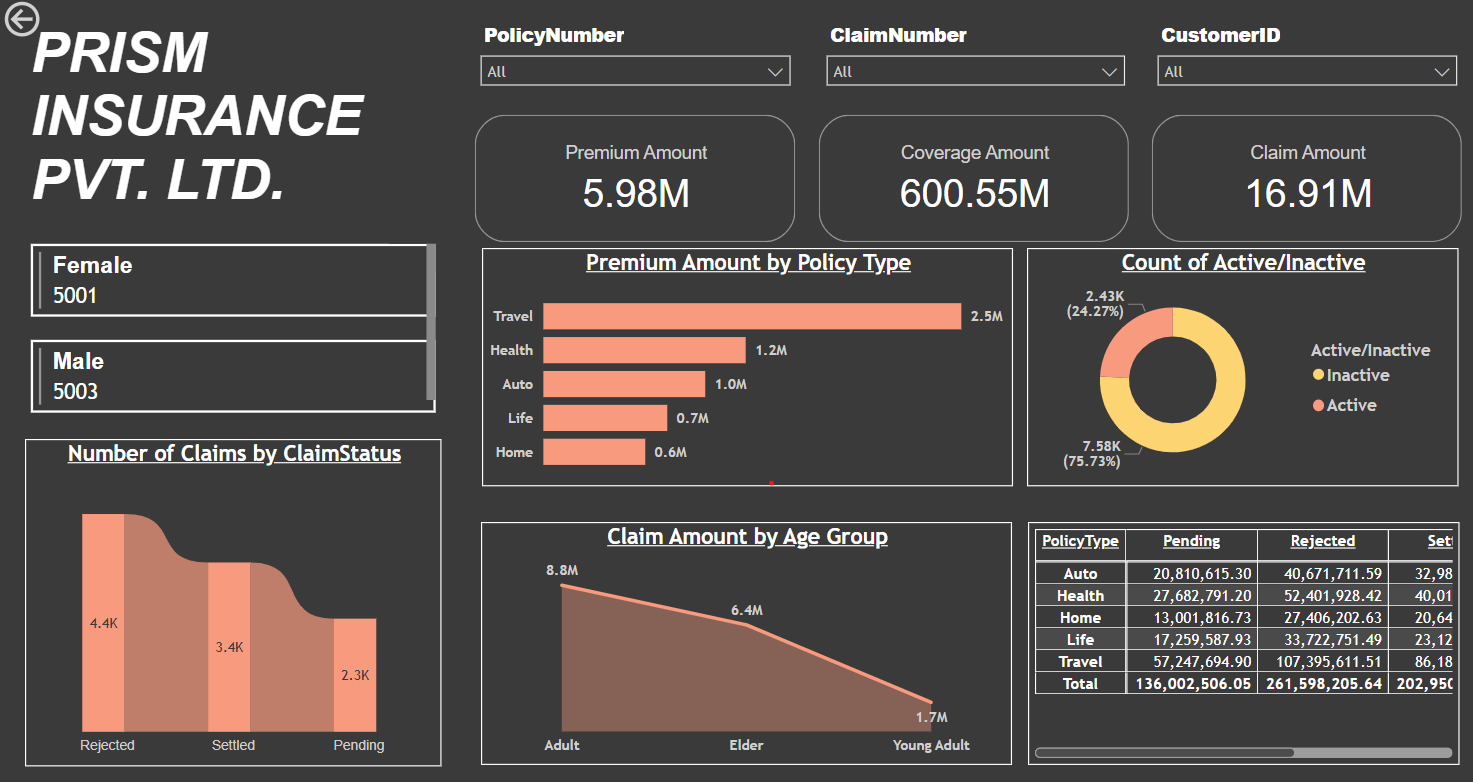

This screenshot's page, from the dashboard's own definition file:
{"tool":"powerbi","page":{"name":"Page 1","canvas":[1280,720],"ordinal":0},"visuals":[{"type":"slicer","fields":{"Values":["InsuranceData.PolicyNumber"]},"box":[406.2,16.2,287.5,81.2],"z":0},{"type":"slicer","fields":{"Values":["InsuranceData.CustomerID"]},"box":[991.2,16.2,278.8,81.2],"z":1},{"type":"slicer","fields":{"Values":["InsuranceData.ClaimNumber"]},"box":[705,16.2,277.5,81.2],"z":2},{"type":"textbox","box":[22.5,16.2,301.2,178.8],"z":3},{"type":"cardVisual","fields":{"Data":["Sum(InsuranceData.PremiumAmount)"]},"box":[406.2,97.5,287.5,120],"z":4},{"type":"cardVisual","fields":{"Data":["Sum(InsuranceData.CoverageAmount)"]},"box":[703.8,97.5,278.8,120],"z":5},{"type":"cardVisual","fields":{"Data":["Sum(InsuranceData.ClaimAmount)"]},"box":[991.2,97.5,278.8,120],"z":6},{"type":"multiRowCard","fields":{"Values":["InsuranceData.Gender","CountNonNull(InsuranceData.Gender)"]},"box":[22.5,208.8,360,160],"z":7},{"type":"actionButton","box":[0,0,100,40],"z":8},{"type":"ribbonChart","title":"Number of Claims by ClaimStatus","fields":{"Category":["InsuranceData.ClaimStatus"],"Y":["CountNonNull(InsuranceData.ClaimStatus)"]},"box":[22.5,382.5,360,282.5],"z":9},{"type":"barChart","title":"Premium Amount by Policy Type","fields":{"Category":["InsuranceData.PolicyType"],"Y":["Sum(InsuranceData.PremiumAmount)"]},"box":[417.5,217.5,458.8,206.2],"z":10},{"type":"lineChart","title":"Claim Amount by Age Group","fields":{"Category":["InsuranceData.Age Group"],"Y":["Sum(InsuranceData.ClaimAmount)"]},"box":[416.2,455,458.8,210],"z":11},{"type":"donutChart","title":"Count of Active/Inactive","fields":{"Category":["InsuranceData.Active/Inactive"],"Y":["CountNonNull(InsuranceData.Active/Inactive)"]},"box":[888.8,217.5,372.5,206.2],"z":12},{"type":"pivotTable","fields":{"Values":["Sum(InsuranceData.CoverageAmount)"],"Rows":["InsuranceData.PolicyType"],"Columns":["InsuranceData.ClaimStatus"]},"box":[889,455,373,210],"z":13}]}

Visuals, with their boxes on the page's 1280x720 design canvas (x1, y1, x2, y2). These are canvas units, not pixel positions in the 1473x782 screenshot, which may show the page scaled, cropped or inside an application window:
slicer - InsuranceData.PolicyNumber: <box>406,16,694,97</box>
slicer - InsuranceData.CustomerID: <box>991,16,1270,97</box>
slicer - InsuranceData.ClaimNumber: <box>705,16,982,97</box>
textbox: <box>22,16,324,195</box>
cardVisual - Sum(InsuranceData.PremiumAmount): <box>406,98,694,218</box>
cardVisual - Sum(InsuranceData.CoverageAmount): <box>704,98,983,218</box>
cardVisual - Sum(InsuranceData.ClaimAmount): <box>991,98,1270,218</box>
multiRowCard - InsuranceData.Gender x CountNonNull(InsuranceData.Gender): <box>22,209,382,369</box>
actionButton: <box>0,0,100,40</box>
"Number of Claims by ClaimStatus" ribbonChart: <box>22,382,382,665</box>
"Premium Amount by Policy Type" barChart: <box>418,218,876,424</box>
"Claim Amount by Age Group" lineChart: <box>416,455,875,665</box>
"Count of Active/Inactive" donutChart: <box>889,218,1261,424</box>
pivotTable - Sum(InsuranceData.CoverageAmount) x InsuranceData.PolicyType: <box>889,455,1262,665</box>
